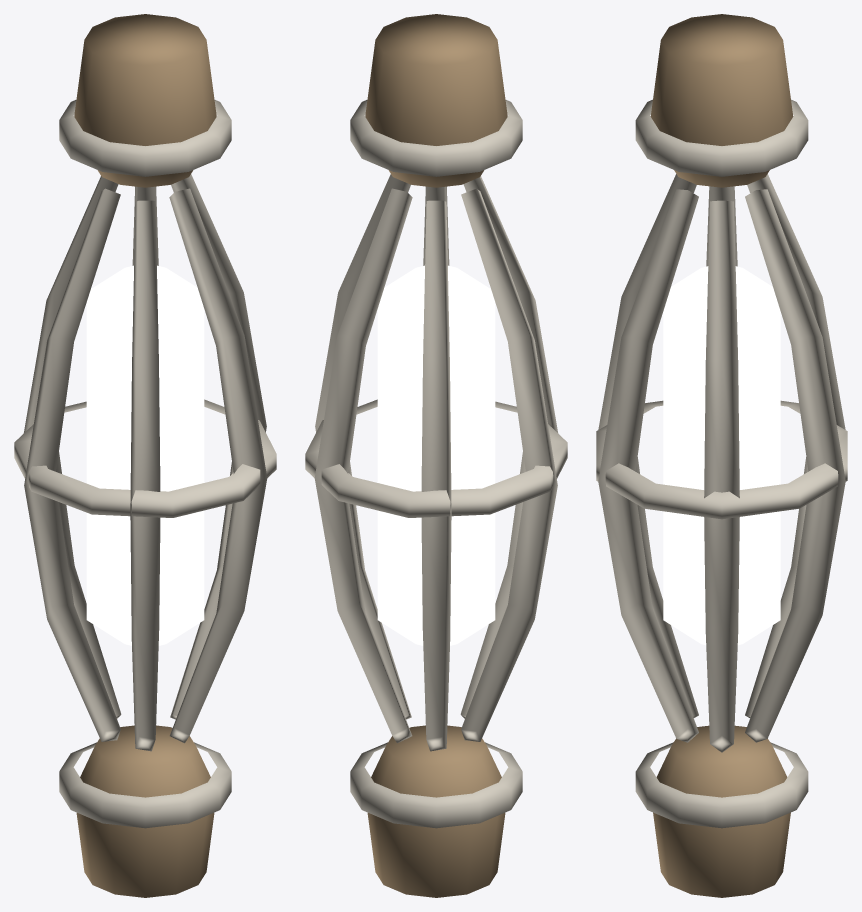
The model's file is interior_primordial.glb.
3 views of the same model, side by side, from view 1: azimuth 30°, elevation 25°; view 2: azimuth 150°, elevation 25°; view 3: azimuth 270°, elevation 25° (orthographic).
Visible parts, largest first — view 1: interior_primordial; view 2: interior_primordial; view 3: interior_primordial.
Boxes of the visible parts, left/top/right/bottom form: interior_primordial: left=14, top=14, right=276, bottom=897; interior_primordial: left=305, top=14, right=567, bottom=897; interior_primordial: left=596, top=14, right=847, bottom=897.
Size of the model in its own units: 0.1404 by 0.46 by 0.1257.
